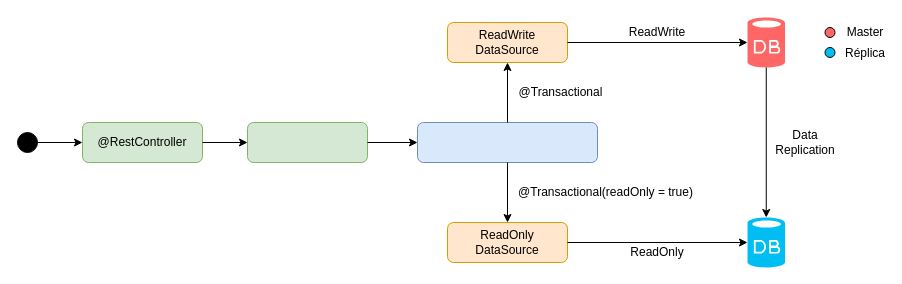
The diagram is 902 pixels wide and 284 high, and some of its shapes have lost their labels. Each missing label, with the centre of its shape:
"@Service" belongs at (307,142).
"TransactionRoutingDataSource" belongs at (507,142).
